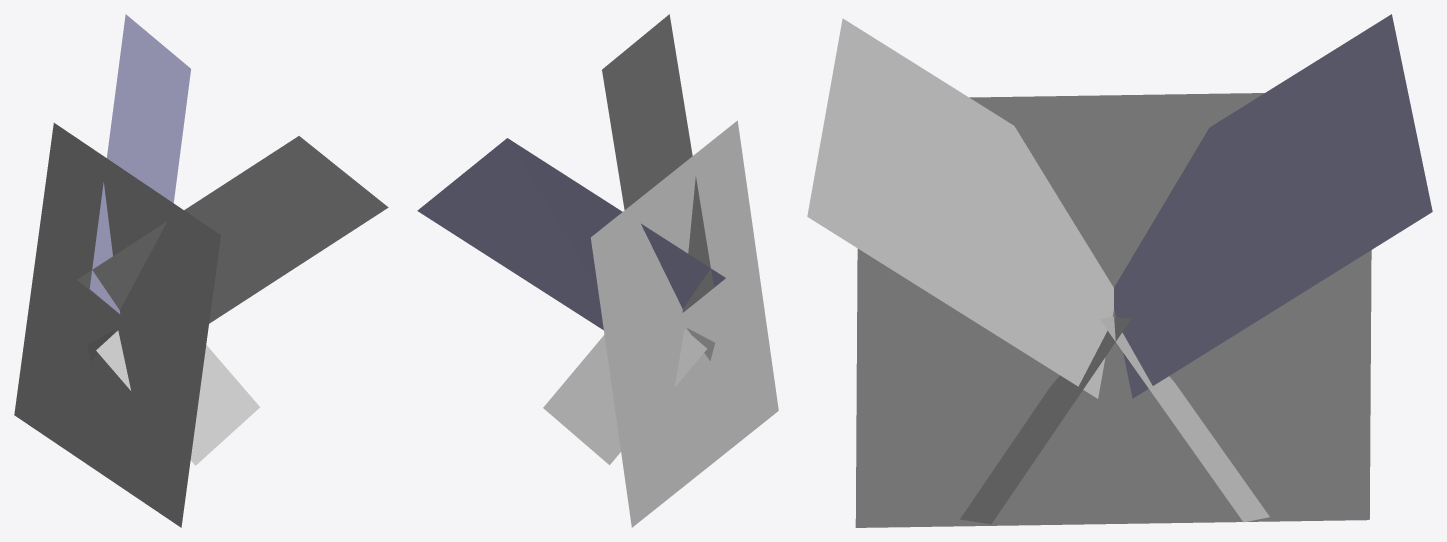
The model's file is Navi.obj.
3 views of the same model, side by side, from view 1: azimuth 30°, elevation 25°; view 2: azimuth 150°, elevation 25°; view 3: azimuth 270°, elevation 25° (orthographic). The views are drawn at different scales.
Parts seen in each view (by area): view 1: Navi; view 2: Navi; view 3: Navi.
Boxes of the visible parts, left/top/right/bottom form: Navi: left=14, top=14, right=388, bottom=527; Navi: left=417, top=14, right=778, bottom=527; Navi: left=807, top=14, right=1432, bottom=527.
Size of the model in its own units: 6.09 by 10.08 by 9.52.
